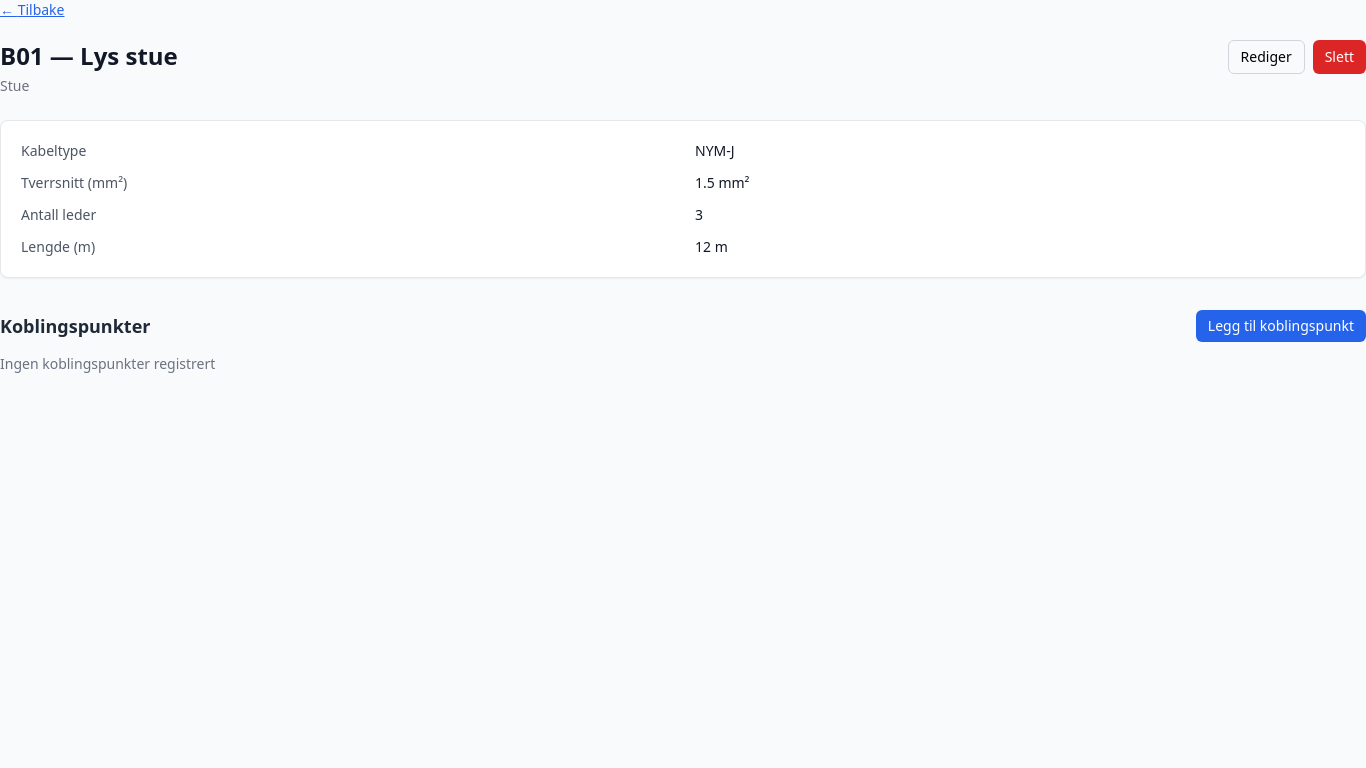
it: CircuitDetail — connection points › shows confirmation dialog on delete click
Click the button "Slett" at (1339, 57), box [1313,40,1365,74]
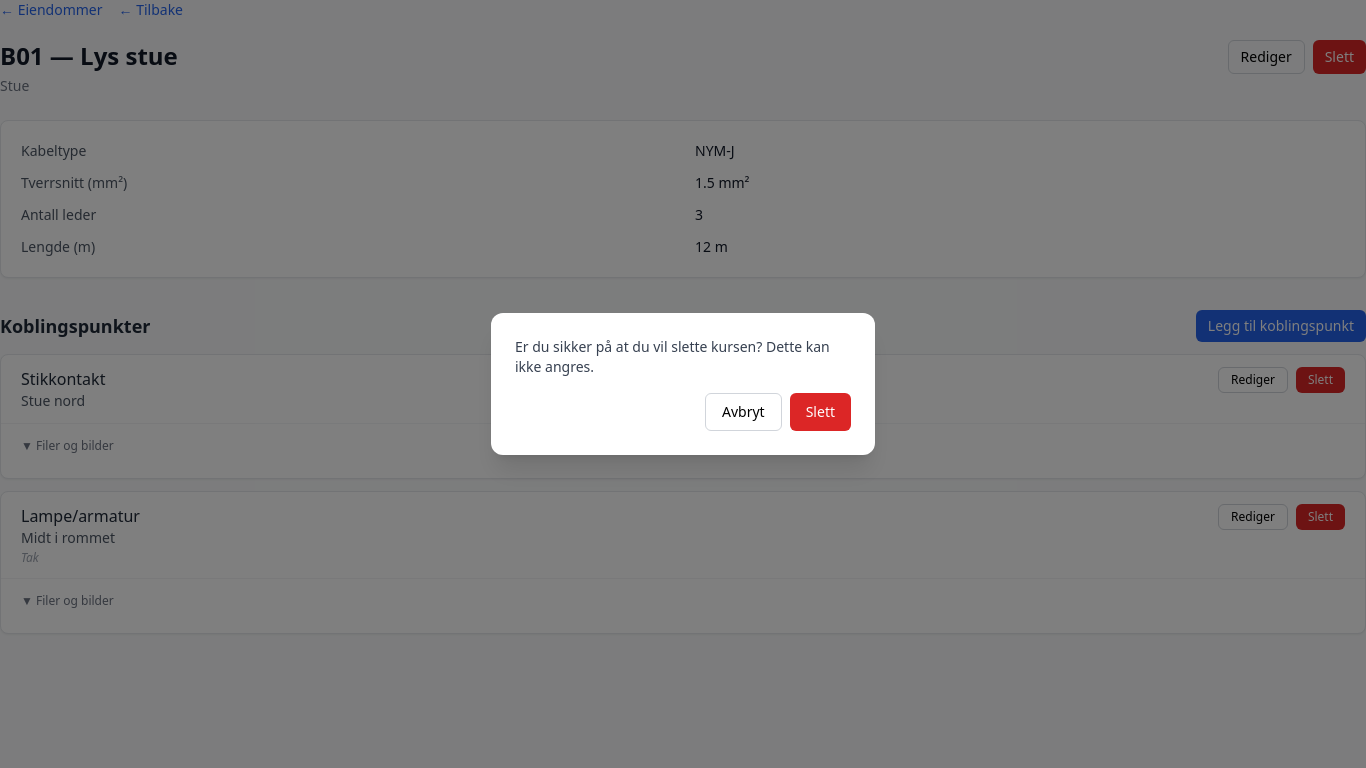
Expected: the text "Er du sikker" is shown, [515,337,830,376]
